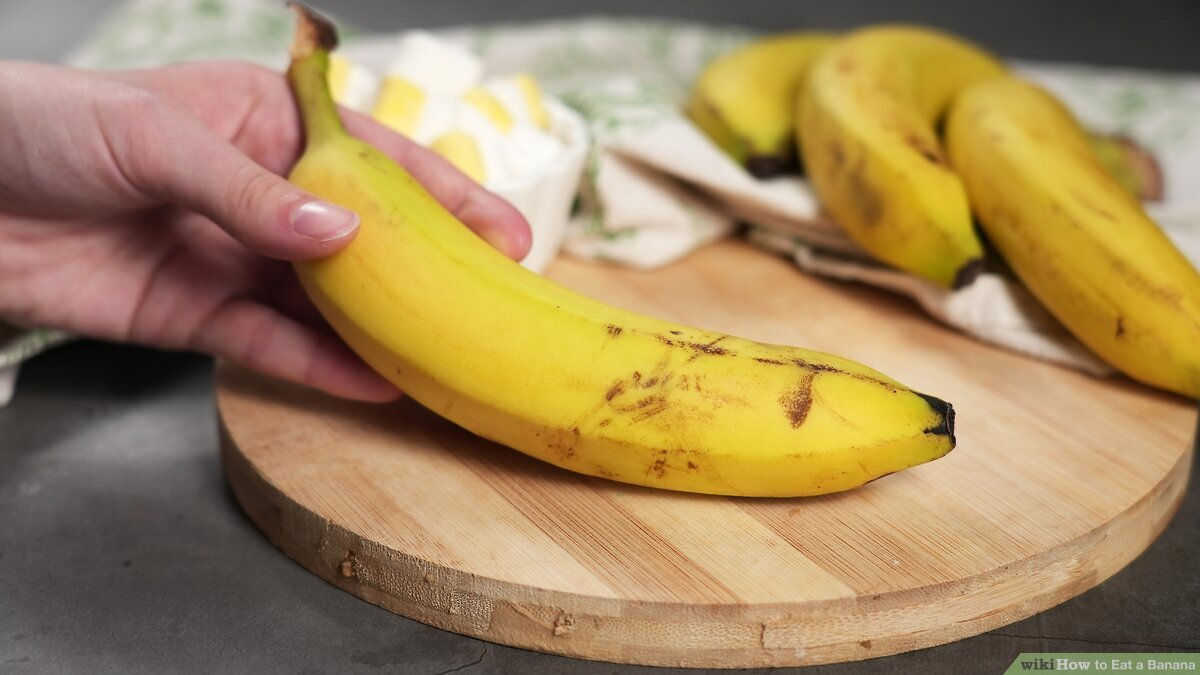banana: (212, 29, 976, 507), (686, 17, 1200, 404)
